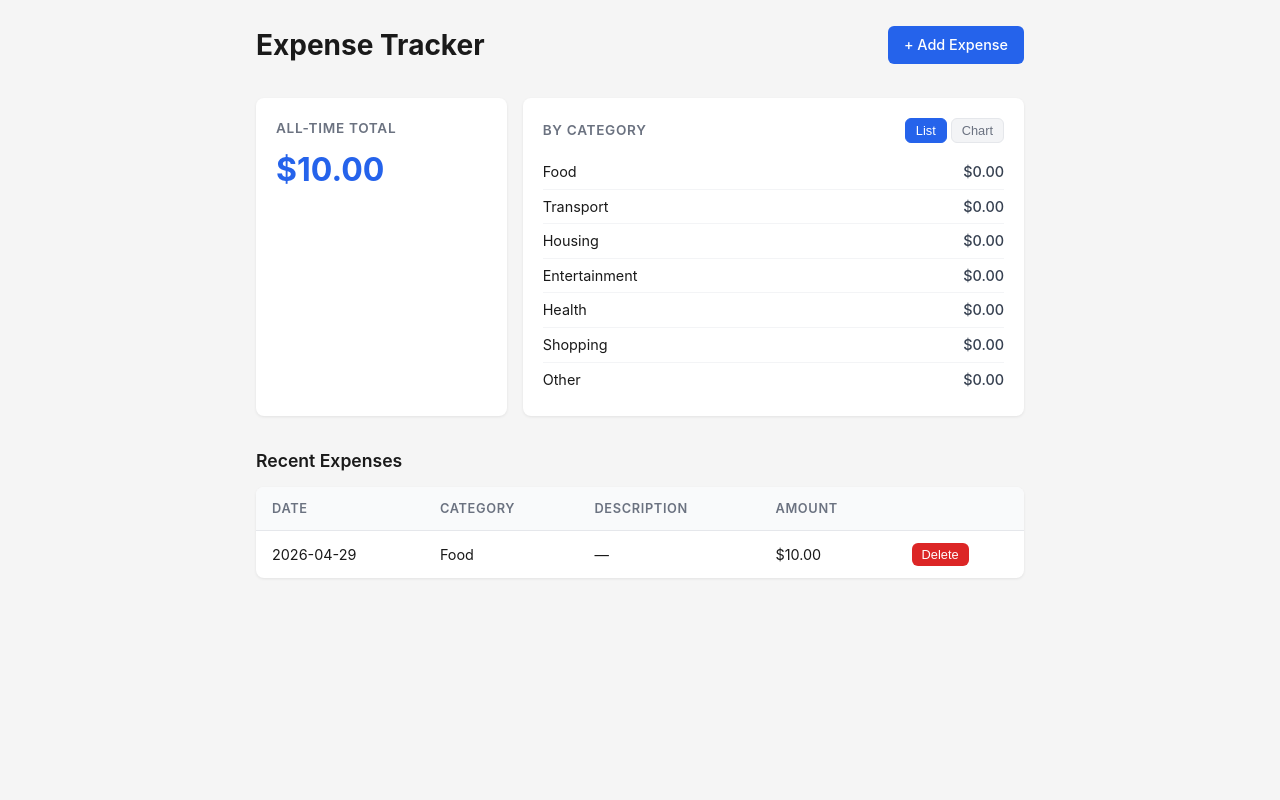
Test: DashboardComponent › delete flow › should close the dialog after confirm
The width and height of the screenshot is (1280, 800).
Click the button with test id "delete-btn" at (940, 554), box [912,543,969,566]
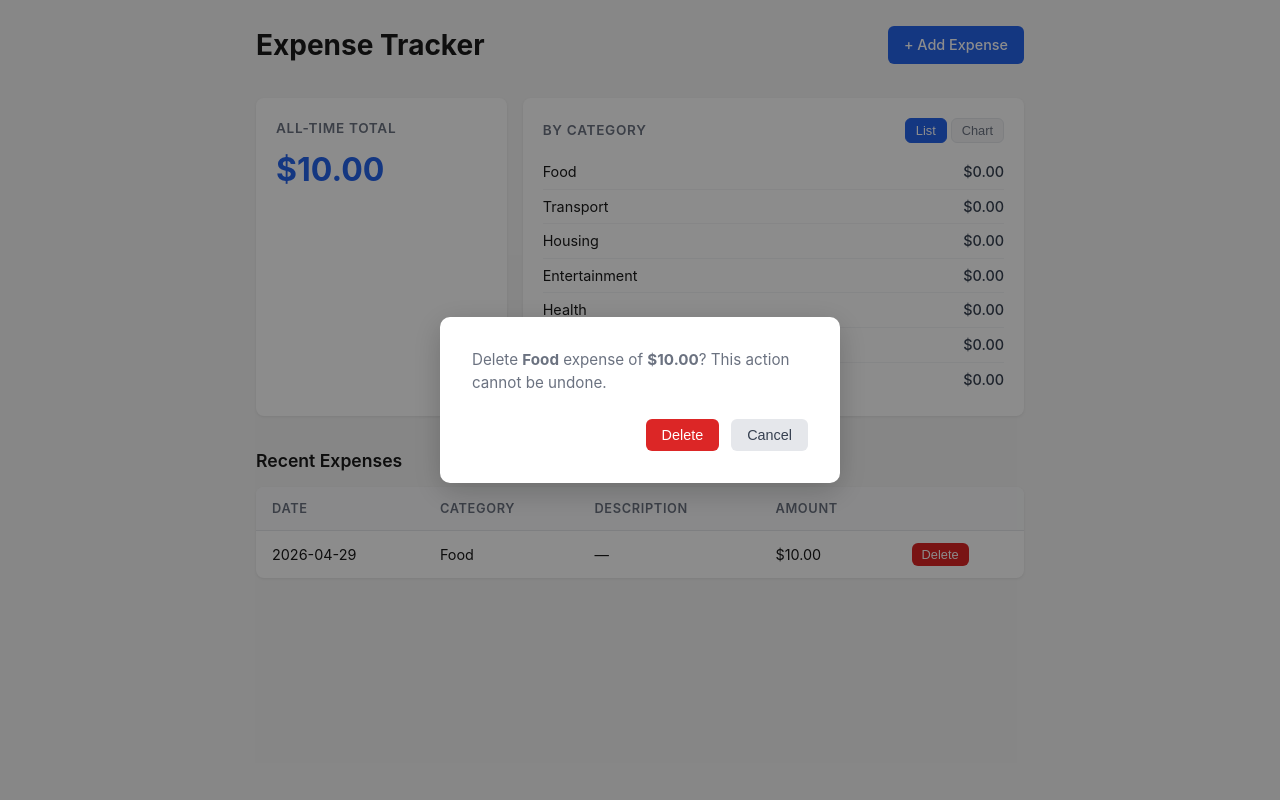
Click the button with test id "confirm-btn" at (682, 435), box [646,419,719,451]
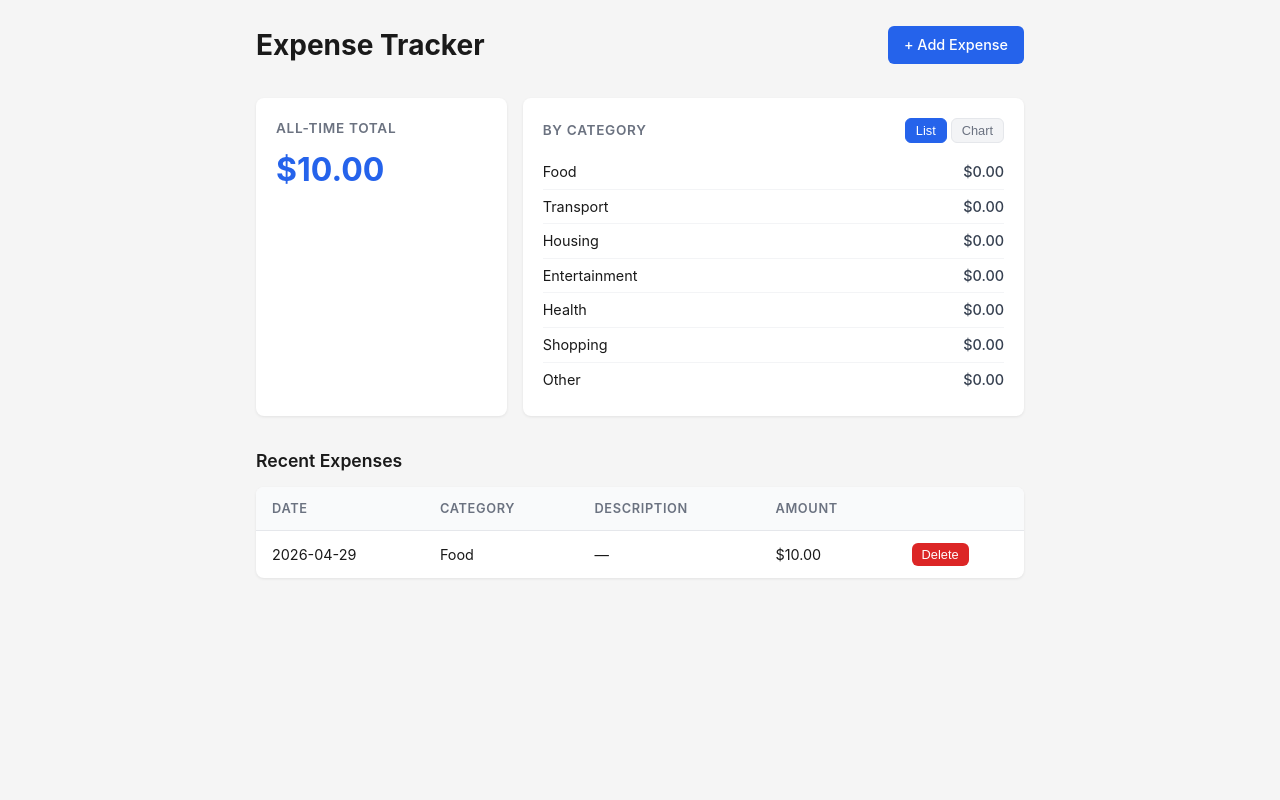
Expected: the button with test id "confirm-btn" is gone
